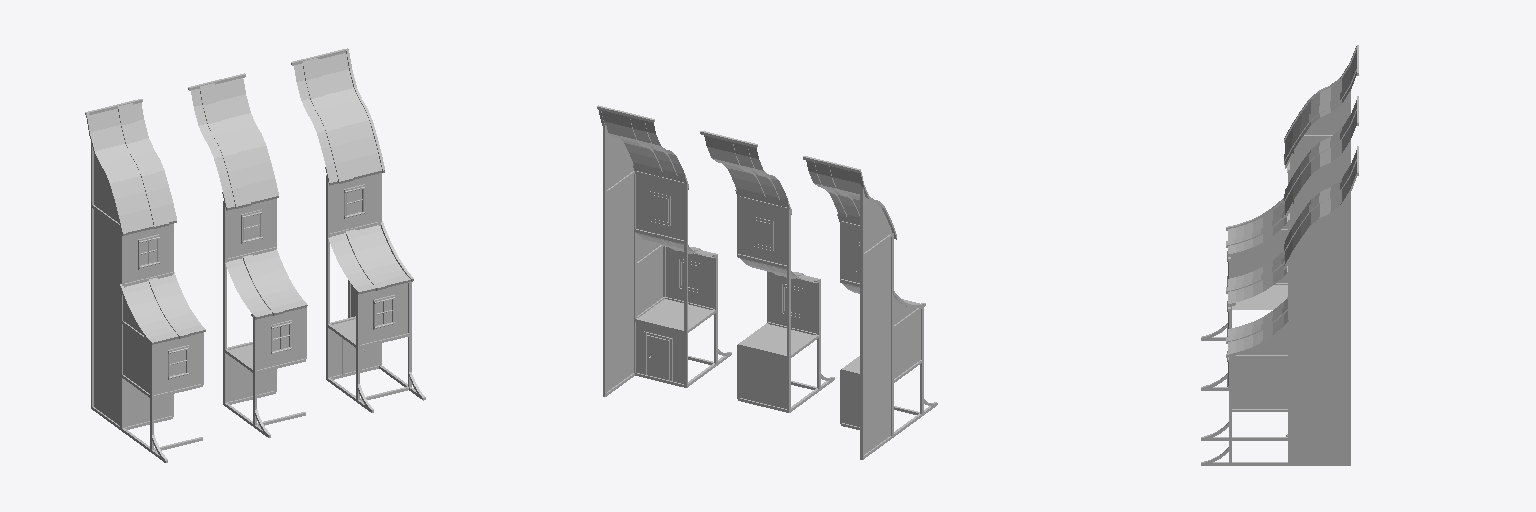
The model's file is Building_1.obj.
3 views of the same model, side by side, from view 1: azimuth 30°, elevation 25°; view 2: azimuth 150°, elevation 25°; view 3: azimuth 270°, elevation 25° (orthographic).
Visible parts, largest first — view 1: House_1_End_2 Walls_End_2, House_1_Middle Roof_Middle, Roof_End_1 House_1_End_1, House_1_End_2 Roof_End_2, House_1_Middle Walls_Middle, House_1_End_1 Walls_End_1, House_1_End_1 Frame_End_1, House_1_End_2 Frame_End_2, House_1_Middle Frame_Middle, House_1_End_2 Upper_Roof_Pannel, House_1_End_1 Upper_Roof_Pannel, House_1_Middle Upper_Roof__Pannel (+5 smaller); view 2: House_1_End_1 Walls_End_1, House_1_End_2 Walls_End_2, House_1_Middle Walls_Middle, House_1_End_1 Frame_End_1, House_1_End_2 Frame_End_2, House_1_Middle Roof_Middle, Roof_End_1 House_1_End_1, House_1_Middle Frame_Middle, House_1_End_2 Roof_End_2, House_1_End_2 Roof_Frame_End_2; view 3: House_1_End_1 Walls_End_1, House_1_End_2 Walls_End_2, House_1_End_1 Frame_End_1, House_1_End_2 Roof_End_2, House_1_Middle Roof_Middle, Roof_End_1 House_1_End_1, House_1_End_1 Roof_Frame_End_1, House_1_Middle Upper_Roof__Pannel, House_1_End_1 Upper_Roof_Pannel, House_1_End_2 Upper_Roof_Pannel, House_1_End_2 Frame_End_2.
Boxes of the visible parts, <box> form: House_1_End_2 Walls_End_2: <box>94,155,203,426</box>; House_1_Middle Roof_Middle: <box>191,78,307,319</box>; Roof_End_1 House_1_End_1: <box>294,53,410,294</box>; House_1_End_2 Roof_End_2: <box>90,103,205,343</box>; House_1_Middle Walls_Middle: <box>227,199,306,401</box>; House_1_End_1 Walls_End_1: <box>330,174,407,376</box>; House_1_End_1 Frame_End_1: <box>326,173,425,412</box>; House_1_End_2 Frame_End_2: <box>91,143,202,462</box>; House_1_Middle Frame_Middle: <box>223,201,305,437</box>; House_1_End_2 Upper_Roof_Pannel: <box>118,103,168,228</box>; House_1_End_1 Upper_Roof_Pannel: <box>303,58,353,183</box>; House_1_Middle Upper_Roof__Pannel: <box>200,83,250,208</box>; House_1_End_1 Walls_End_1: <box>607,131,713,391</box>; House_1_End_2 Walls_End_2: <box>840,194,920,454</box>; House_1_Middle Walls_Middle: <box>737,197,816,408</box>; House_1_End_1 Frame_End_1: <box>603,124,731,396</box>; House_1_End_2 Frame_End_2: <box>841,187,937,459</box>; House_1_Middle Roof_Middle: <box>704,135,820,282</box>; Roof_End_1 House_1_End_1: <box>601,110,717,257</box>; House_1_Middle Frame_Middle: <box>738,196,834,412</box>; House_1_End_2 Roof_End_2: <box>806,160,919,304</box>; House_1_End_2 Roof_Frame_End_2: <box>803,156,925,307</box>; House_1_End_1 Walls_End_1: <box>1232,198,1347,462</box>; House_1_End_2 Walls_End_2: <box>1232,95,1347,309</box>; House_1_End_1 Frame_End_1: <box>1201,193,1350,465</box>; House_1_End_2 Roof_End_2: <box>1228,50,1356,256</box>; House_1_Middle Roof_Middle: <box>1228,100,1356,306</box>; Roof_End_1 House_1_End_1: <box>1228,150,1356,352</box>; House_1_End_1 Roof_Frame_End_1: <box>1226,146,1358,357</box>; House_1_Middle Upper_Roof__Pannel: <box>1284,101,1356,204</box>; House_1_End_1 Upper_Roof_Pannel: <box>1284,152,1356,254</box>; House_1_End_2 Upper_Roof_Pannel: <box>1284,61,1356,164</box>; House_1_End_2 Frame_End_2: <box>1201,91,1350,340</box>.
Bounding box in the file's own units: 25.51 × 27.23 × 13.38.